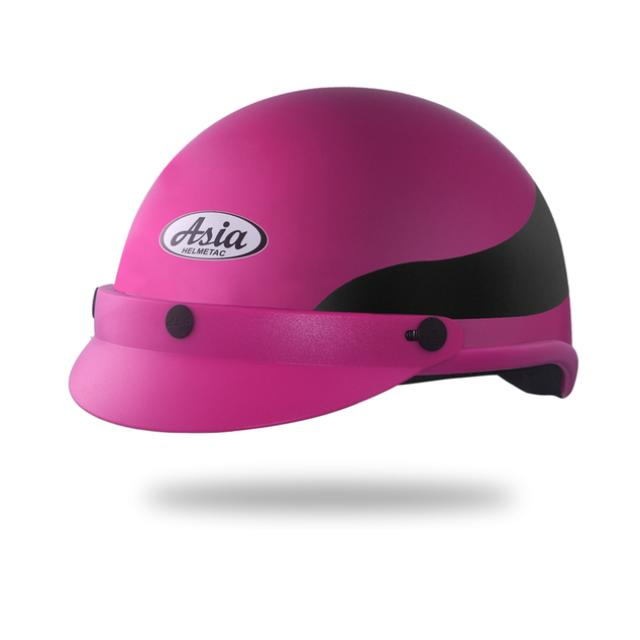Helmet: (67, 83, 580, 435)
